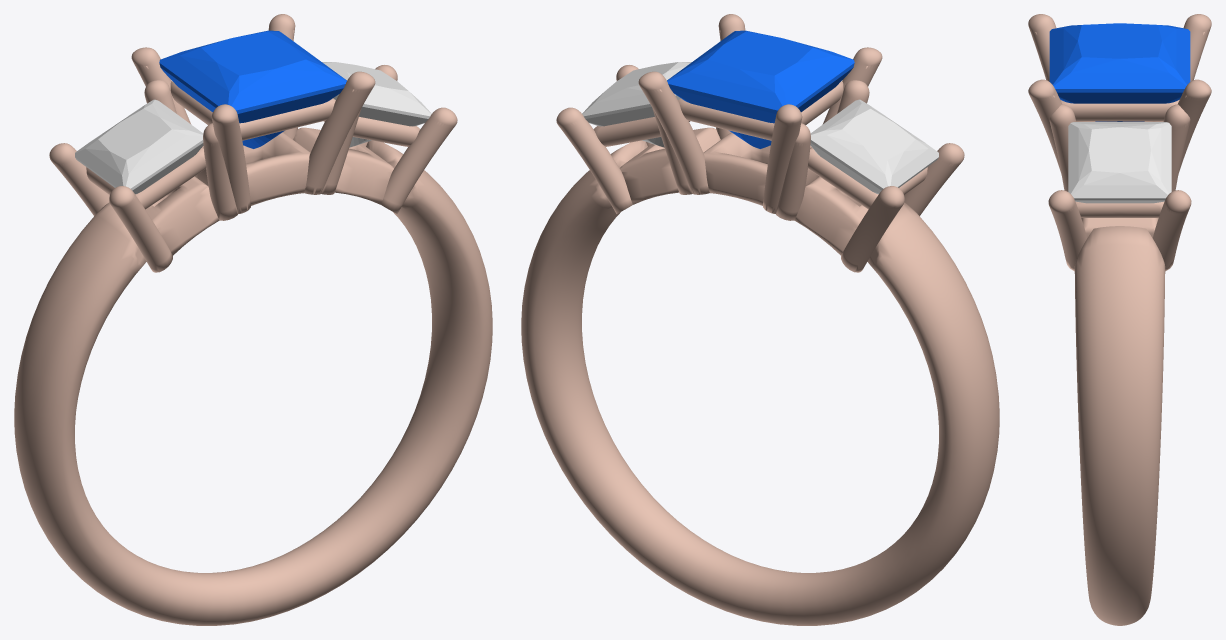
Rendered from bluesapphire-princess-rosegold-4prong-taperedband-3stone.glb.
3 views of the same model, side by side, from view 1: azimuth 30°, elevation 25°; view 2: azimuth 150°, elevation 25°; view 3: azimuth 270°, elevation 25° (orthographic).
Visible parts, largest first — view 1: metal, stone, side, side.001; view 2: metal, stone, side, side.001; view 3: metal, stone, side.001.
Part boxes in pixels (<box>): metal: <box>14,14,492,625</box>; stone: <box>159,30,346,148</box>; side: <box>75,99,203,194</box>; side.001: <box>322,62,431,147</box>; metal: <box>521,14,999,625</box>; stone: <box>667,30,854,148</box>; side: <box>810,99,938,194</box>; side.001: <box>582,62,691,147</box>; metal: <box>1028,14,1211,625</box>; stone: <box>1049,23,1190,121</box>; side.001: <box>1068,122,1171,203</box>.
Bounding box in the file's own units: 20.49 × 23.84 × 7.08.
